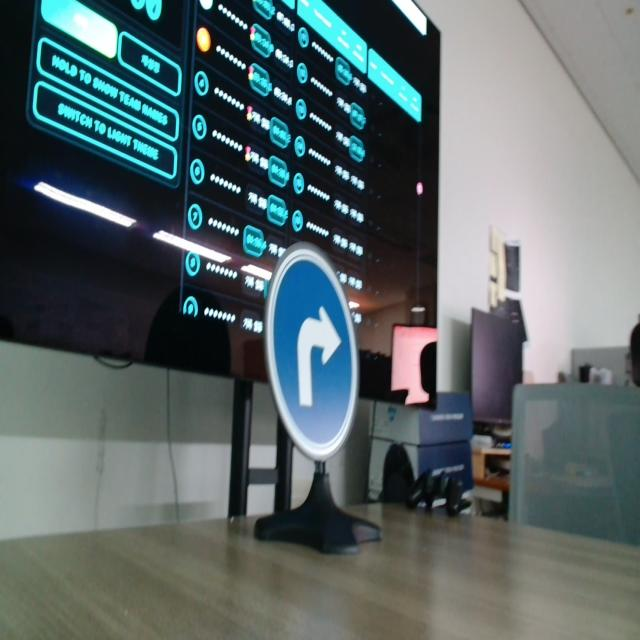right_dierection: (264, 240, 360, 457)
